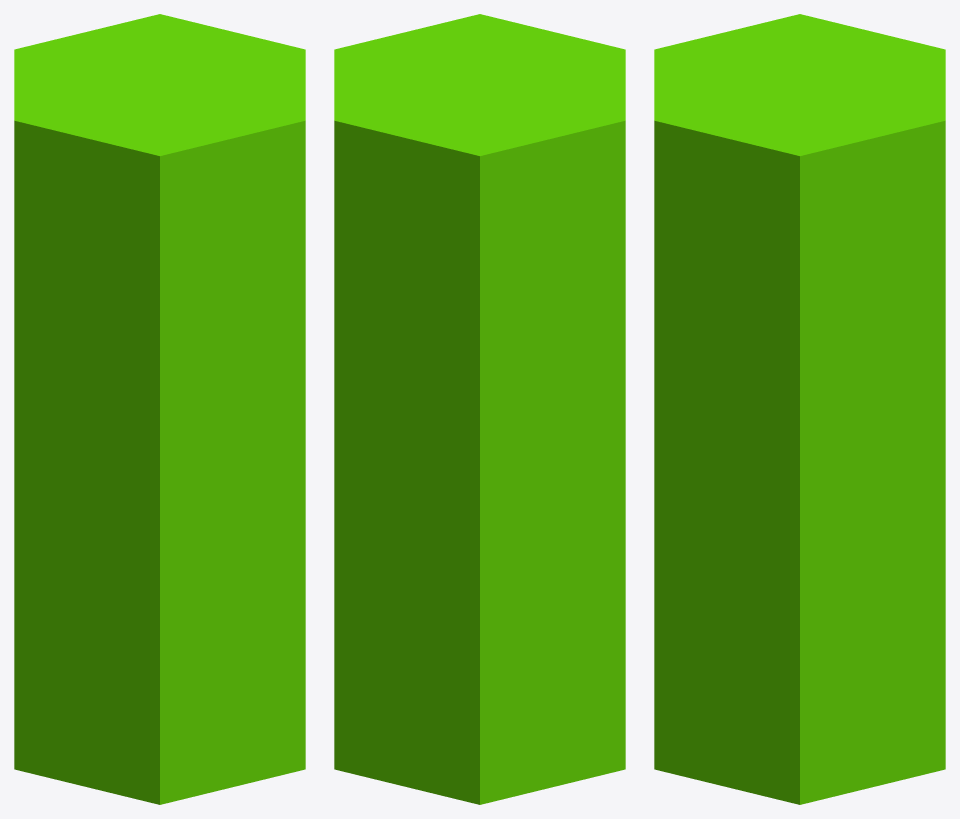
Rendered from Cage_Collider.fbx.
3 views of the same model, side by side, from view 1: azimuth 30°, elevation 25°; view 2: azimuth 150°, elevation 25°; view 3: azimuth 270°, elevation 25° (orthographic).
Parts seen in each view (by area): view 1: Cage_Collider; view 2: Cage_Collider; view 3: Cage_Collider.
Part boxes in pixels (x1,y1,x2,y2): Cage_Collider: [14, 14, 305, 804]; Cage_Collider: [334, 14, 625, 804]; Cage_Collider: [654, 14, 945, 804].
Size of the model in its own units: 49.31 by 105 by 42.71.
